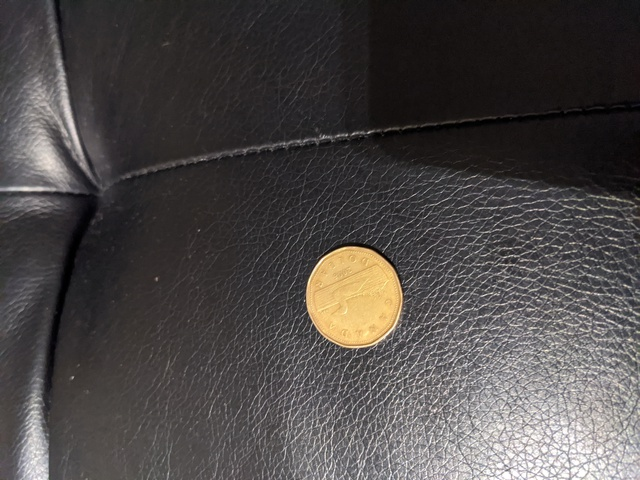loonie: (298, 243, 408, 348)
